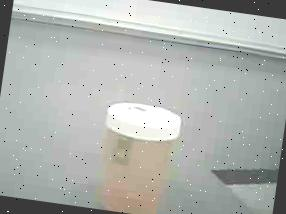Bottle B: (84, 91, 194, 214)
